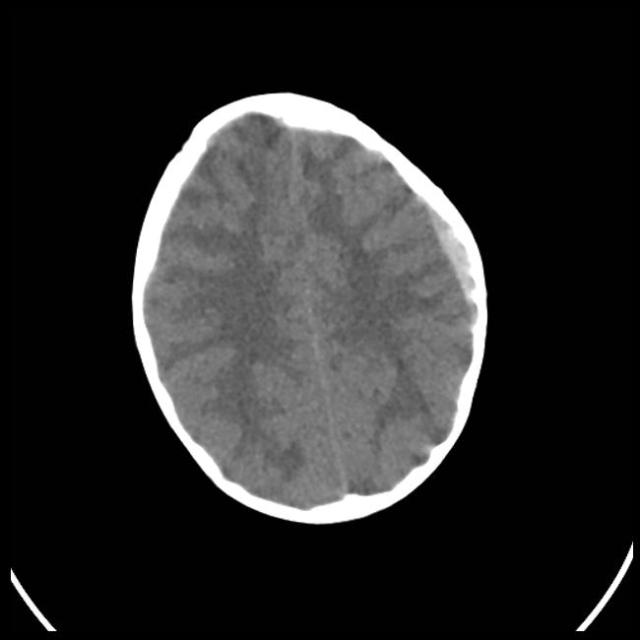lesion: (429, 181, 492, 342)
